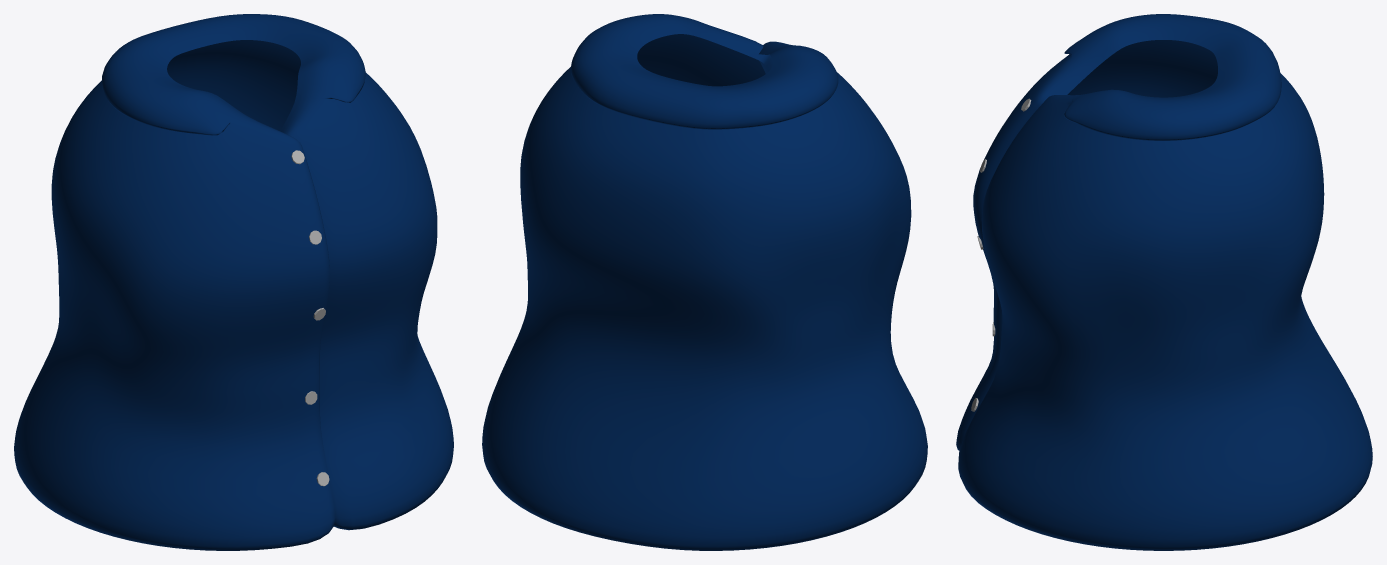
Rendered from Female Button Up.fbx.
3 views of the same model, side by side, from view 1: azimuth 30°, elevation 25°; view 2: azimuth 150°, elevation 25°; view 3: azimuth 270°, elevation 25° (orthographic). The views are drawn at different scales.
Parts seen in each view (by area): view 1: Female_Collar_Shirt; view 2: Female_Collar_Shirt; view 3: Female_Collar_Shirt.
Part boxes in pixels (left/top/right/bottom): Female_Collar_Shirt: left=14, top=14, right=453, bottom=550; Female_Collar_Shirt: left=482, top=14, right=927, bottom=550; Female_Collar_Shirt: left=956, top=14, right=1372, bottom=550.
Size of the model in its own units: 2.14 by 2.16 by 2.03.
